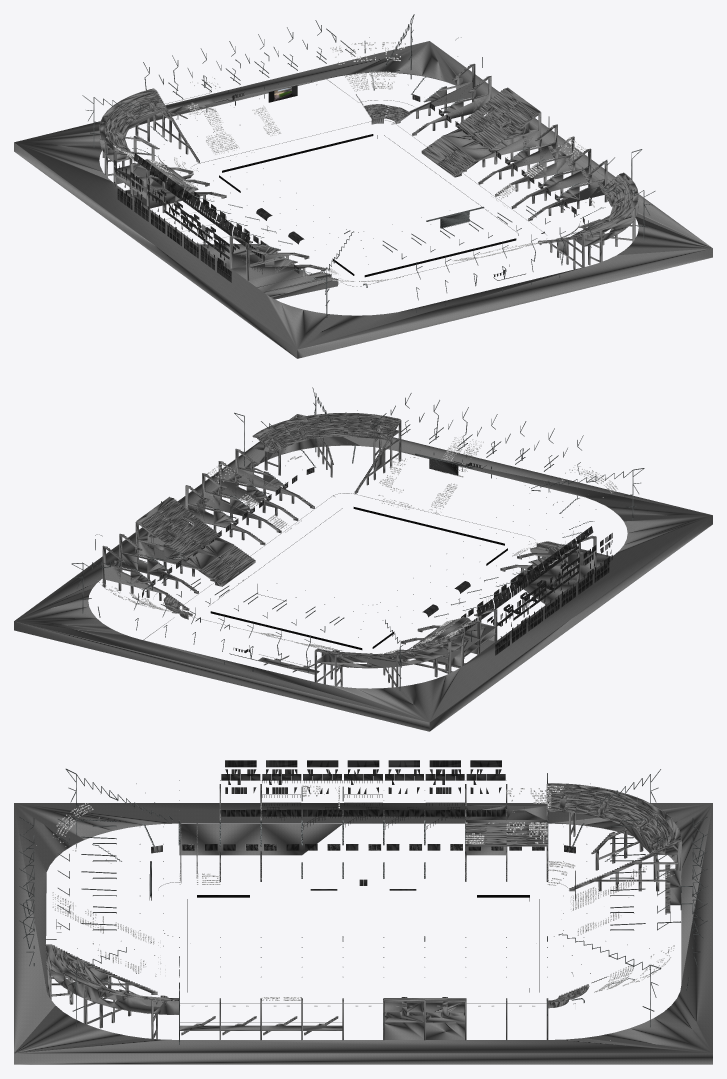
File: modern_stadium_part09.glb
The picture shows the model from 3 angles, top to bottom: view 1: azimuth 30°, elevation 25°; view 2: azimuth 150°, elevation 25°; view 3: azimuth 270°, elevation 25°; orthographic projection. The views are drawn at different scales.
Visible parts, largest first — view 1: Material2, Material3.012, Material2.082, Material2.039+Material2.042+Material2.049, Material2.062, Material2.006, Material3.034, Material3.004; view 2: Material2, Material3.012, Material2.039+Material2.042+Material2.049, Material2.082, Material2.062, Material2.006, Material3.034, Material3.004; view 3: Material2, Material3.012, Material2.062, Material2.039+Material2.042+Material2.049, Material2.082, Material2.006, Material3.004, Material3.034, Material3.013.
Boxes of the visible parts, bbox=[...] form: Material2: bbox=[14, 41, 712, 358]; Material3.012: bbox=[114, 94, 584, 282]; Material2.082: bbox=[113, 42, 594, 283]; Material2.039+Material2.042+Material2.049: bbox=[82, 14, 655, 317]; Material2.062: bbox=[108, 96, 624, 292]; Material2.006: bbox=[148, 80, 525, 280]; Material3.034: bbox=[219, 134, 518, 277]; Material3.004: bbox=[132, 70, 605, 287]; Material2: bbox=[14, 412, 712, 731]; Material3.012: bbox=[142, 467, 612, 655]; Material2.039+Material2.042+Material2.049: bbox=[71, 387, 644, 690]; Material2.082: bbox=[97, 436, 617, 654]; Material2.062: bbox=[264, 425, 611, 663]; Material2.006: bbox=[229, 455, 578, 660]; Material3.034: bbox=[208, 507, 507, 649]; Material3.004: bbox=[121, 443, 594, 646]; Material2: bbox=[14, 783, 712, 1064]; Material3.012: bbox=[151, 760, 575, 890]; Material2.062: bbox=[51, 797, 677, 1000]; Material2.039+Material2.042+Material2.049: bbox=[19, 768, 707, 1044]; Material2.082: bbox=[52, 785, 674, 1000]; Material2.006: bbox=[46, 780, 680, 939]; Material3.004: bbox=[92, 820, 634, 1002]; Material3.034: bbox=[187, 895, 539, 992]; Material3.013: bbox=[151, 844, 575, 1008].
Bounding box in the file's own units: 188 × 27.83 × 222.
Materials: 12 (6 with a texture image).
